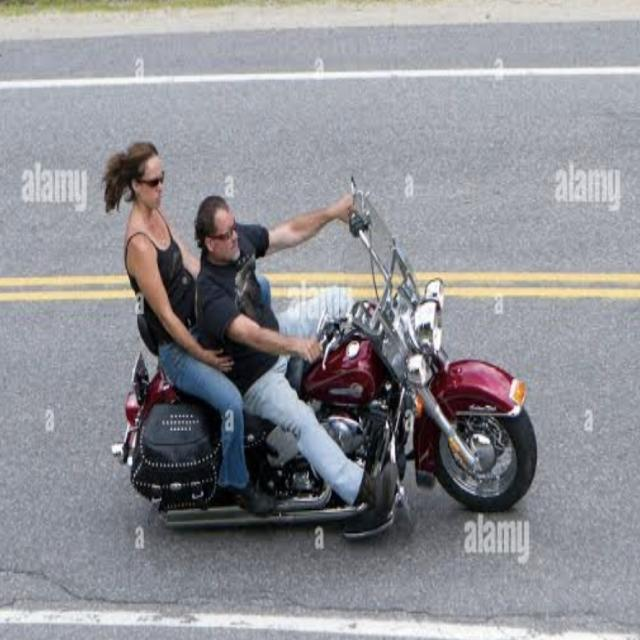WithoutHelmet: (193, 194, 396, 538), (102, 140, 281, 519)
